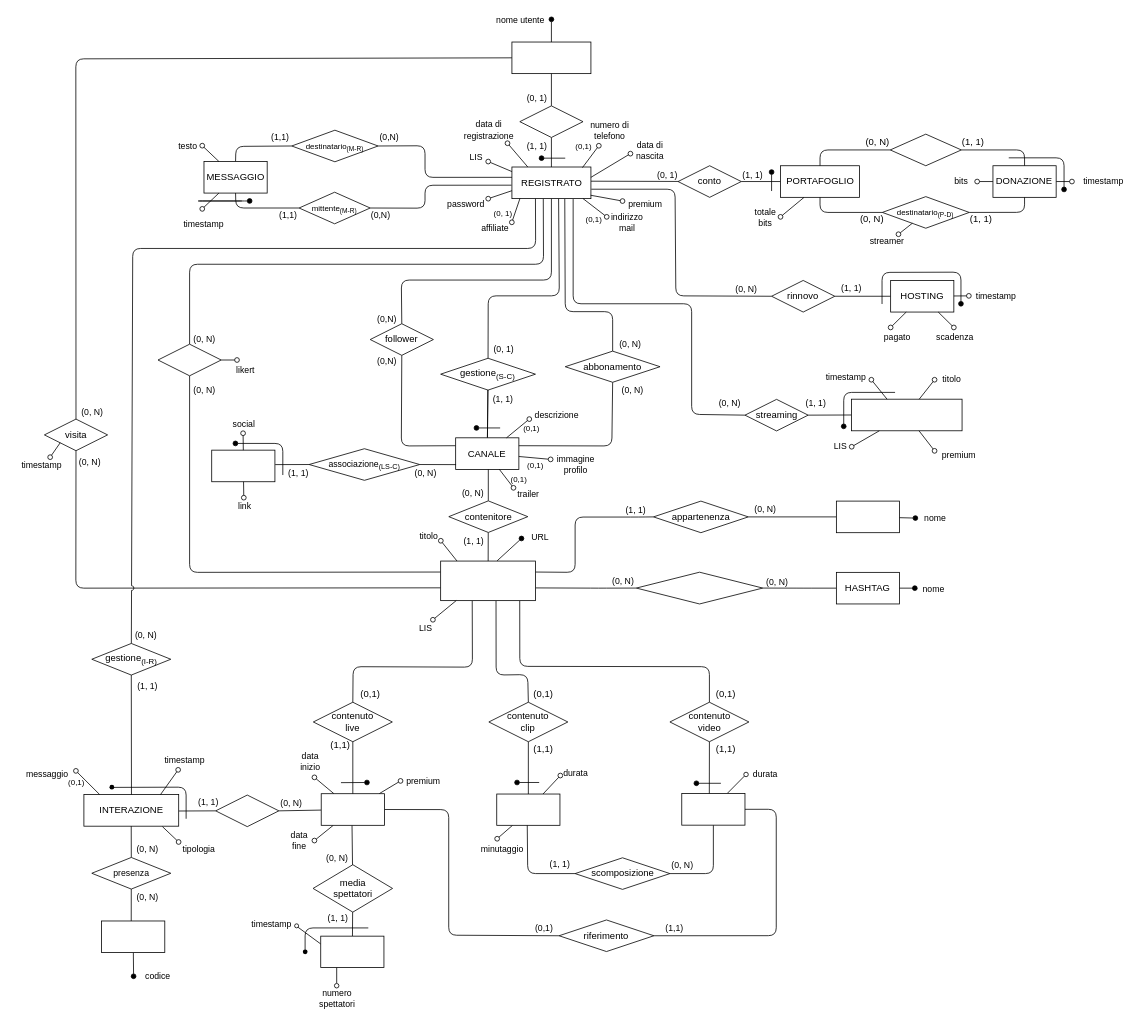
This 1137x1029 diagram has some shape labels left out. The shapes that lost their labels are listed below. From the top down, each one's centre as x and y in pixels, then its label:
At pixel 551 57: "UTENTE".
At pixel 551 121: "partizione".
At pixel 925 149: "mittente (P-D)".
At pixel 189 359: "voto".
At pixel 906 414: "PROGRAMMAZIONE".
At pixel 243 465: "LINK SOCIAL".
At pixel 868 516: "CATEGORIA".
At pixel 487 580: "CONTENUTO MULTIMEDIALE".
At pixel 699 587: "associazione (CM-H)".
At pixel 247 810: "invio".
At pixel 352 809: "LIVE".
At pixel 528 809: "CLIP".
At pixel 713 809: "VIDEO".
At pixel 133 936: "EMOJI".
At pixel 352 951: "AFFLUENZA".
